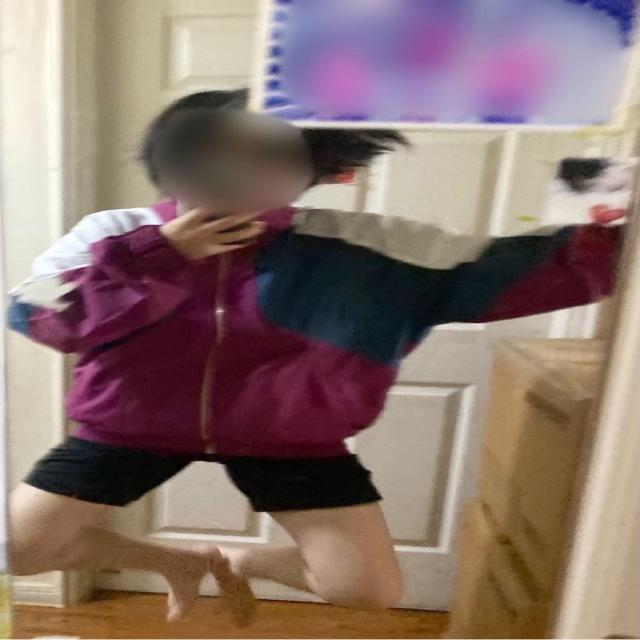jacket: (9, 196, 640, 459)
shortpants: (23, 434, 384, 511)
